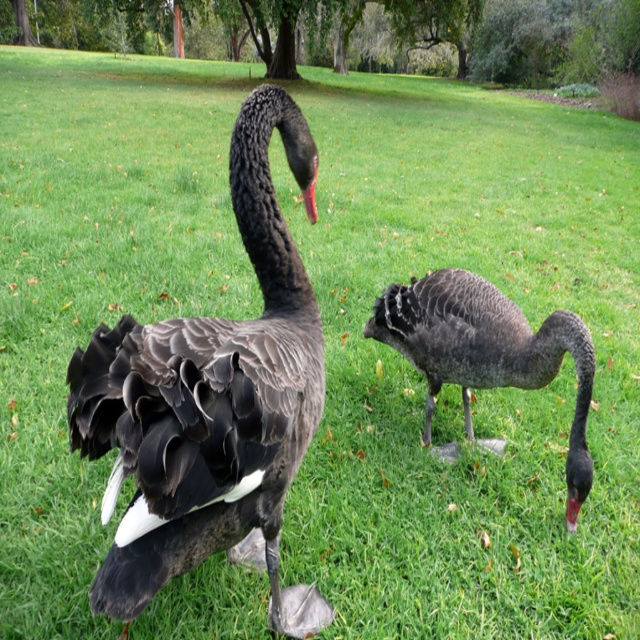Swan: (65, 83, 337, 640), (362, 268, 596, 534)
